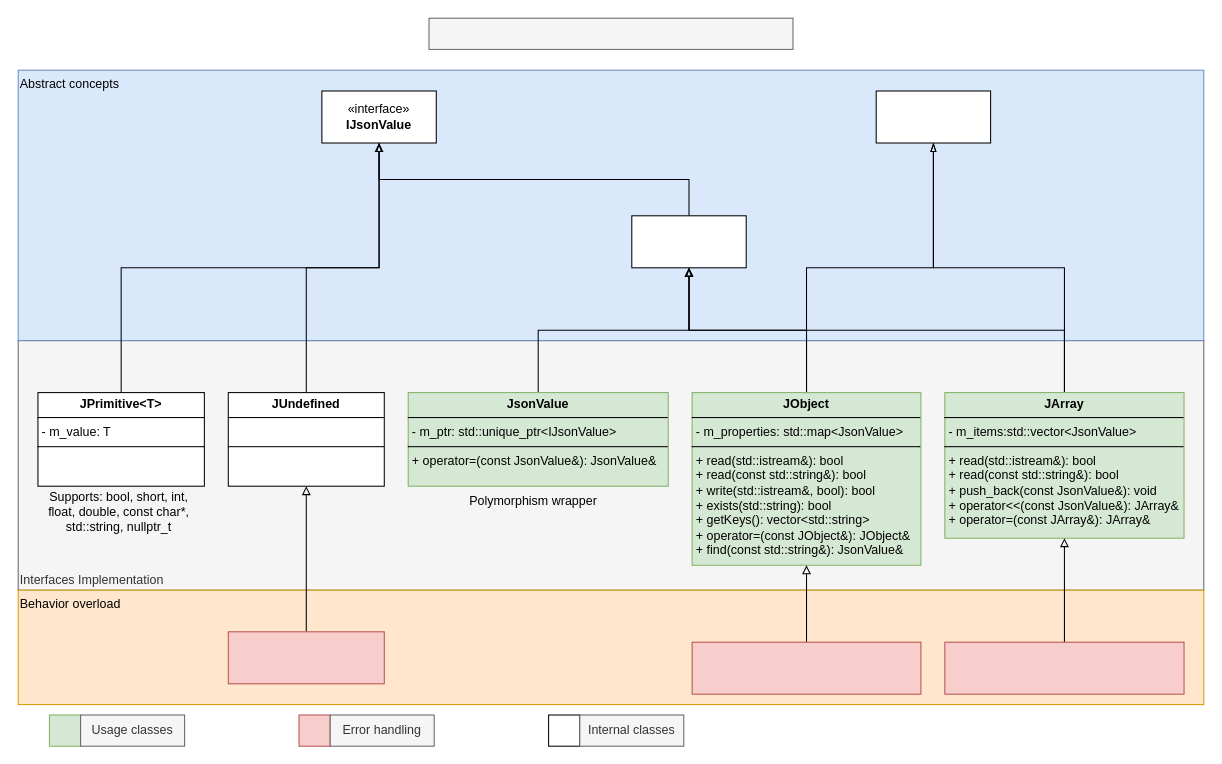
Image size: 1222x764. Some labels were removed from this diagram. The shapes that lost their labels are listed below. From the top down, each one's centre as x and y in pixels, then its label:
point 610,33: General architecture
point 933,116: «interface» IJsonContainer
point 688,241: JsonItem
point 305,657: JUndefinedError
point 806,667: JObjectError
point 1064,667: JArrayError
